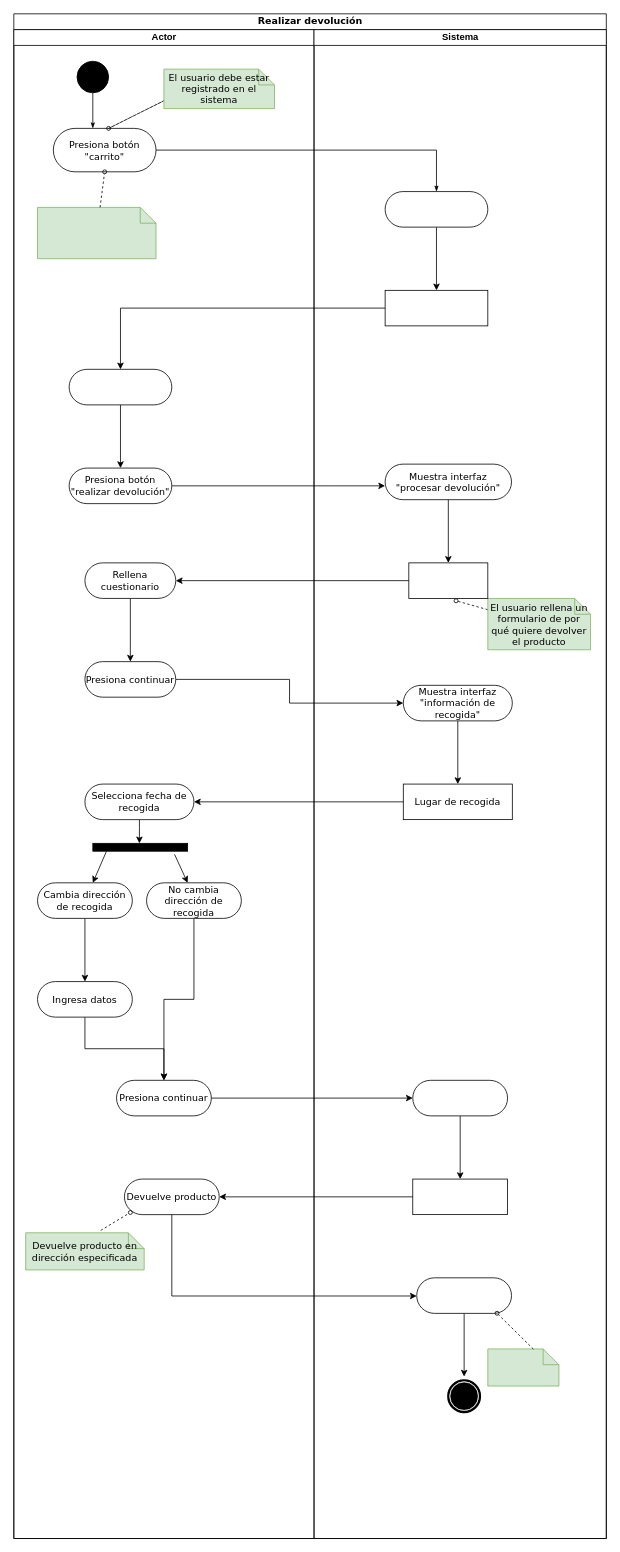
Image size: 620x1552. Some labels were removed from this diagram. Each missing label, with the box of its shape:
Actualiza base de datos: (416, 1277, 512, 1313)
Cuestionario de devolución: (408, 562, 488, 598)
Este caso de uso se inicia como un extend de "Gestión de ordenes": (37, 207, 156, 259)
Información de recogida: (412, 1178, 508, 1215)
Lista de ordenes de compra: (384, 290, 488, 326)
Muestra información de recogida: (412, 1080, 508, 1116)
Muestra interfaz "carrito": (384, 191, 488, 227)
Reembolso: (487, 1348, 559, 1386)
Selecciona item: (68, 369, 172, 405)
